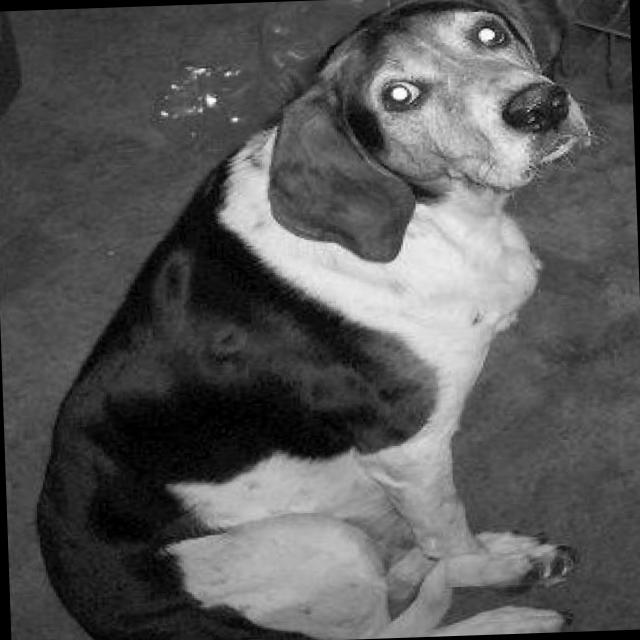sitting: (14, 0, 614, 640)
